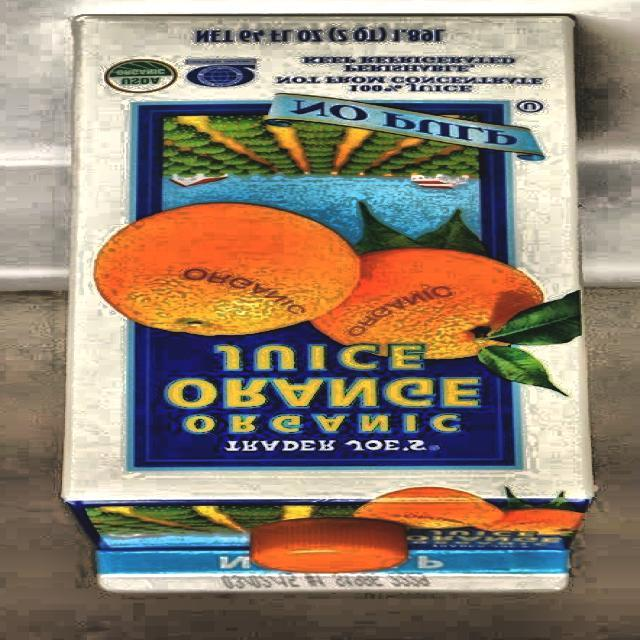cardboard: (61, 14, 594, 594)
